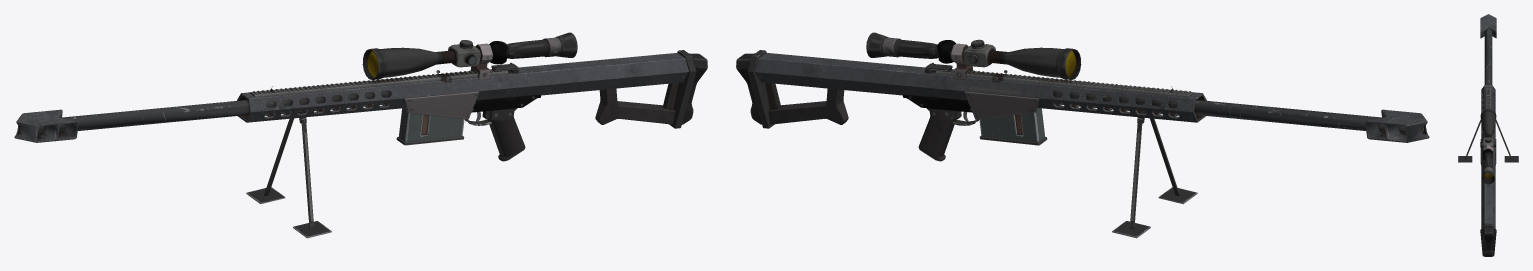
File: SniperGun.fbx
The picture shows the model from 3 angles, left to right: view 1: azimuth 30°, elevation 25°; view 2: azimuth 150°, elevation 25°; view 3: azimuth 270°, elevation 25°; orthographic projection. The views are drawn at different scales.
Parts seen in each view (by area): view 1: SniperGun, Snipermagazine; view 2: SniperGun, Snipermagazine; view 3: SniperGun.
Part boxes in pixels (<box>): SniperGun: <box>14,32,707,238</box>; Snipermagazine: <box>396,108,464,145</box>; SniperGun: <box>736,32,1429,238</box>; Snipermagazine: <box>979,108,1047,145</box>; SniperGun: <box>1458,14,1518,256</box>.
Size of the model in its own units: 2.36 by 0.536 by 0.3608.
